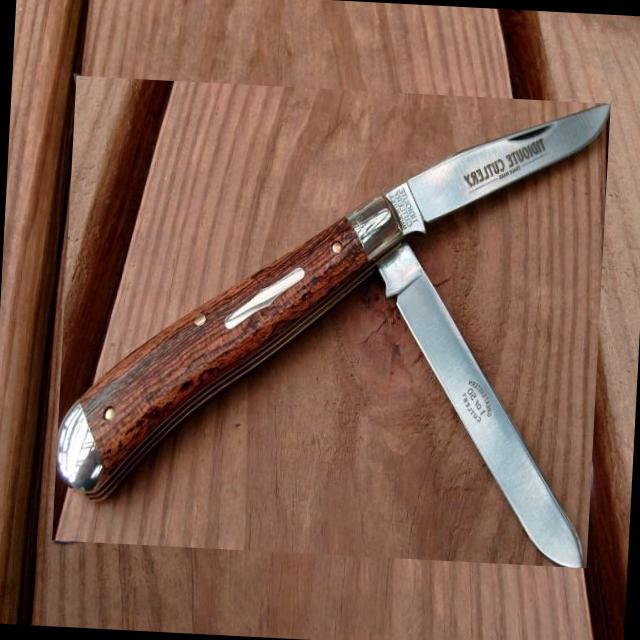Knife: (57, 104, 610, 568)
